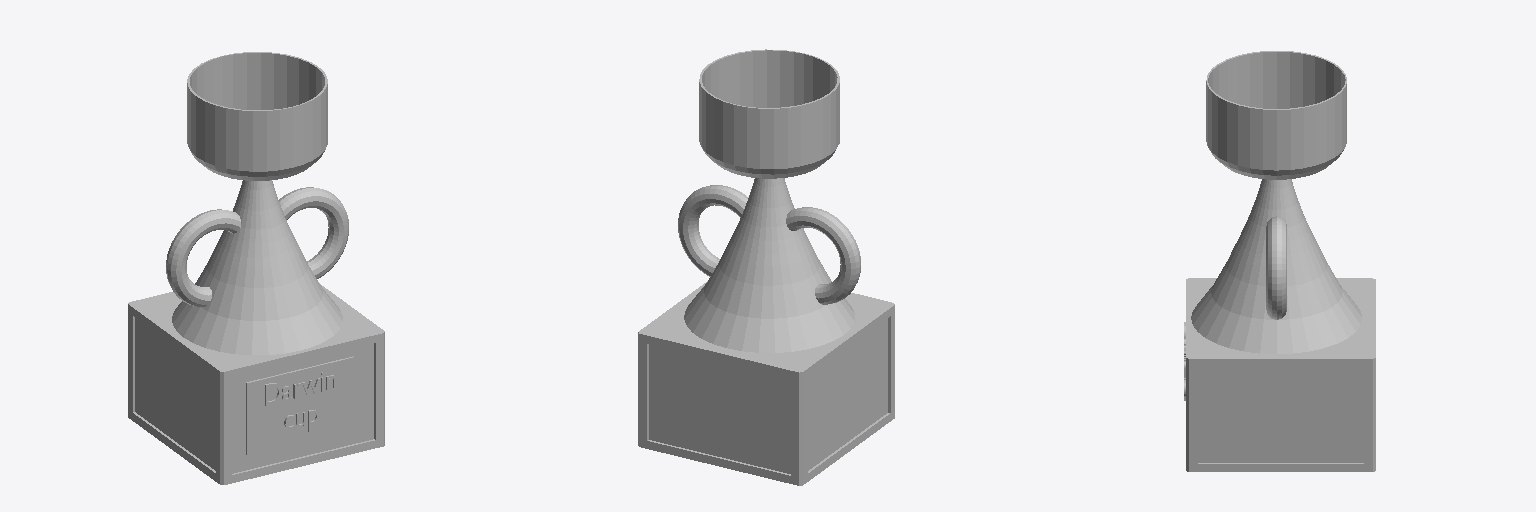
Rendered from Darwin cup.obj.
3 renders of one model, left to right at view 1: azimuth 30°, elevation 25°; view 2: azimuth 150°, elevation 25°; view 3: azimuth 270°, elevation 25°, orthographic.
Parts seen in each view (by area): view 1: Куб.003, Куб.002, Куб.004, Куб.001, Куб.006, Куб.005, Текст; view 2: Куб.003, Куб.002, Куб.004, Куб.006, Куб.005; view 3: Куб.003, Куб.004, Куб.002, Куб.005.
Boxes of the visible parts, box(x1,y1,x2,y2) form: Куб.003: box(128, 283, 384, 484); Куб.002: box(172, 180, 342, 354); Куб.004: box(187, 52, 327, 180); Куб.001: box(246, 356, 354, 454); Куб.006: box(166, 209, 240, 306); Куб.005: box(279, 187, 348, 278); Текст: box(265, 372, 336, 431); Куб.003: box(638, 281, 894, 485); Куб.002: box(684, 178, 854, 352); Куб.004: box(699, 49, 839, 178); Куб.006: box(786, 207, 860, 304); Куб.005: box(678, 185, 748, 276); Куб.003: box(1186, 278, 1375, 471); Куб.004: box(1206, 51, 1346, 179); Куб.002: box(1191, 179, 1361, 353); Куб.005: box(1266, 216, 1286, 319).
Bounding box in the file's own units: 0.132 × 0.2452 × 0.1215.